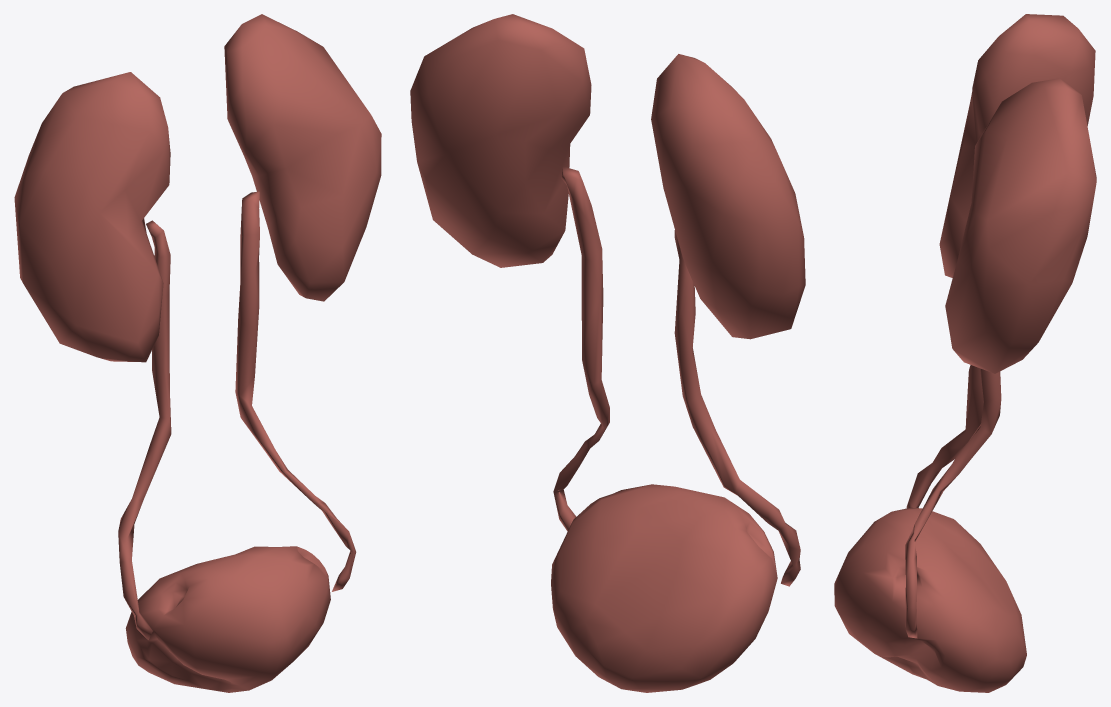
Rendered from pediatric_infant_female.urinary.LOD2.glb.
The picture shows the model from 3 angles, left to right: view 1: azimuth 30°, elevation 25°; view 2: azimuth 150°, elevation 25°; view 3: azimuth 270°, elevation 25°; orthographic projection. The views are drawn at different scales.
Parts seen in each view (by area): view 1: PEDIATRIC.INFANT.FEMALE.URINARY.KIDNEY_CORTEX.R, PEDIATRIC.INFANT.FEMALE.URINARY.KIDNEY_CORTEX.L, PEDIATRIC.INFANT.FEMALE.URINARY.URINARY_BLADDER_WALL, PEDIATRIC.INFANT.FEMALE.URINARY.URETER.L, PEDIATRIC.INFANT.FEMALE.URINARY.URETER.R; view 2: PEDIATRIC.INFANT.FEMALE.URINARY.URINARY_BLADDER_WALL, PEDIATRIC.INFANT.FEMALE.URINARY.KIDNEY_CORTEX.L, PEDIATRIC.INFANT.FEMALE.URINARY.KIDNEY_CORTEX.R, PEDIATRIC.INFANT.FEMALE.URINARY.URETER.L, PEDIATRIC.INFANT.FEMALE.URINARY.URETER.R; view 3: PEDIATRIC.INFANT.FEMALE.URINARY.KIDNEY_CORTEX.L, PEDIATRIC.INFANT.FEMALE.URINARY.URINARY_BLADDER_WALL, PEDIATRIC.INFANT.FEMALE.URINARY.KIDNEY_CORTEX.R, PEDIATRIC.INFANT.FEMALE.URINARY.URETER.L, PEDIATRIC.INFANT.FEMALE.URINARY.URETER.R.
Part boxes in pixels (x1,y1,x2,y2): PEDIATRIC.INFANT.FEMALE.URINARY.KIDNEY_CORTEX.R: [14, 72, 170, 362]; PEDIATRIC.INFANT.FEMALE.URINARY.KIDNEY_CORTEX.L: [224, 14, 381, 301]; PEDIATRIC.INFANT.FEMALE.URINARY.URINARY_BLADDER_WALL: [125, 546, 330, 692]; PEDIATRIC.INFANT.FEMALE.URINARY.URETER.L: [235, 191, 356, 591]; PEDIATRIC.INFANT.FEMALE.URINARY.URETER.R: [118, 220, 171, 639]; PEDIATRIC.INFANT.FEMALE.URINARY.URINARY_BLADDER_WALL: [551, 484, 777, 692]; PEDIATRIC.INFANT.FEMALE.URINARY.KIDNEY_CORTEX.L: [410, 14, 591, 267]; PEDIATRIC.INFANT.FEMALE.URINARY.KIDNEY_CORTEX.R: [651, 54, 805, 339]; PEDIATRIC.INFANT.FEMALE.URINARY.URETER.L: [553, 166, 609, 531]; PEDIATRIC.INFANT.FEMALE.URINARY.URETER.R: [674, 230, 800, 586]; PEDIATRIC.INFANT.FEMALE.URINARY.KIDNEY_CORTEX.L: [945, 78, 1096, 373]; PEDIATRIC.INFANT.FEMALE.URINARY.URINARY_BLADDER_WALL: [834, 507, 1026, 692]; PEDIATRIC.INFANT.FEMALE.URINARY.KIDNEY_CORTEX.R: [939, 14, 1095, 277]; PEDIATRIC.INFANT.FEMALE.URINARY.URETER.L: [905, 368, 1001, 638]; PEDIATRIC.INFANT.FEMALE.URINARY.URETER.R: [906, 365, 983, 508].
Size of the model in its own units: 0.0972 by 0.1653 by 0.0613.
